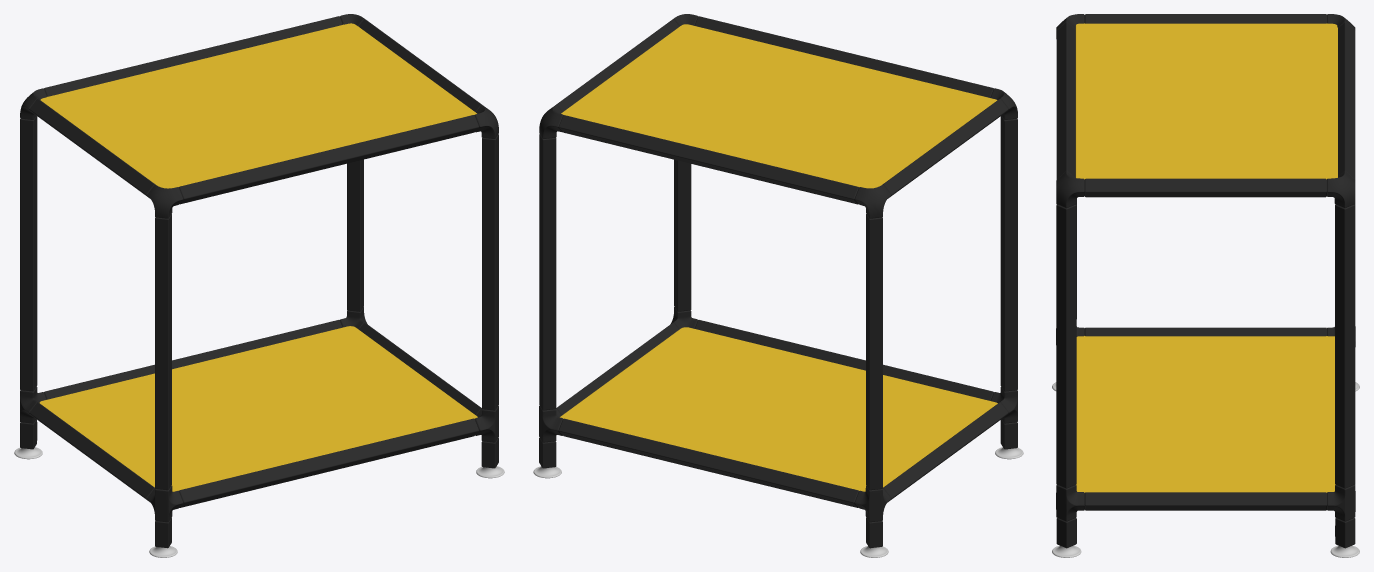
The picture shows the model from 3 angles, left to right: view 1: azimuth 30°, elevation 25°; view 2: azimuth 150°, elevation 25°; view 3: azimuth 270°, elevation 25°; orthographic projection. The views are drawn at different scales.
Parts seen in each view (by area): view 1: 479x329x420; view 2: 479x329x420; view 3: 479x329x420.
Boxes of the visible parts, x1=… form: 479x329x420: x1=14, y1=14, x2=504, y2=557; 479x329x420: x1=533, y1=14, x2=1023, y2=557; 479x329x420: x1=1052, y1=14, x2=1359, y2=557.
Bounding box in the file's own units: 0.5689 × 0.5593 × 0.4182.
